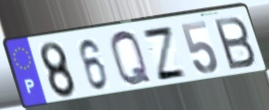5: (178, 18, 219, 76)
6: (78, 38, 111, 92)
8: (39, 40, 77, 100)
B: (211, 14, 258, 72)
Q: (109, 29, 155, 90)
Z: (139, 25, 190, 83)
